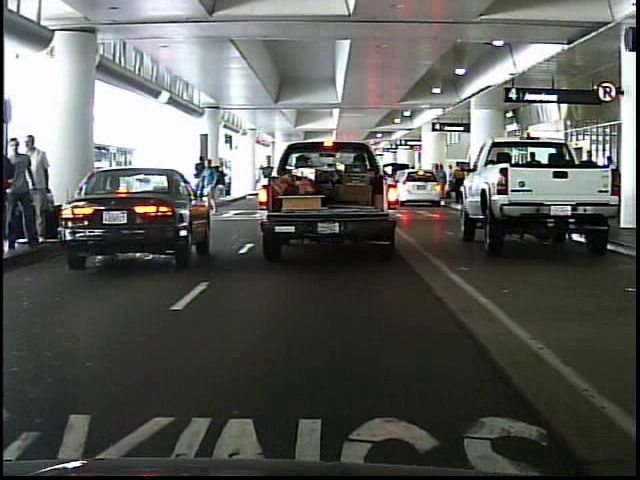person: (29, 133, 56, 249), (7, 136, 31, 252), (204, 152, 225, 213)
